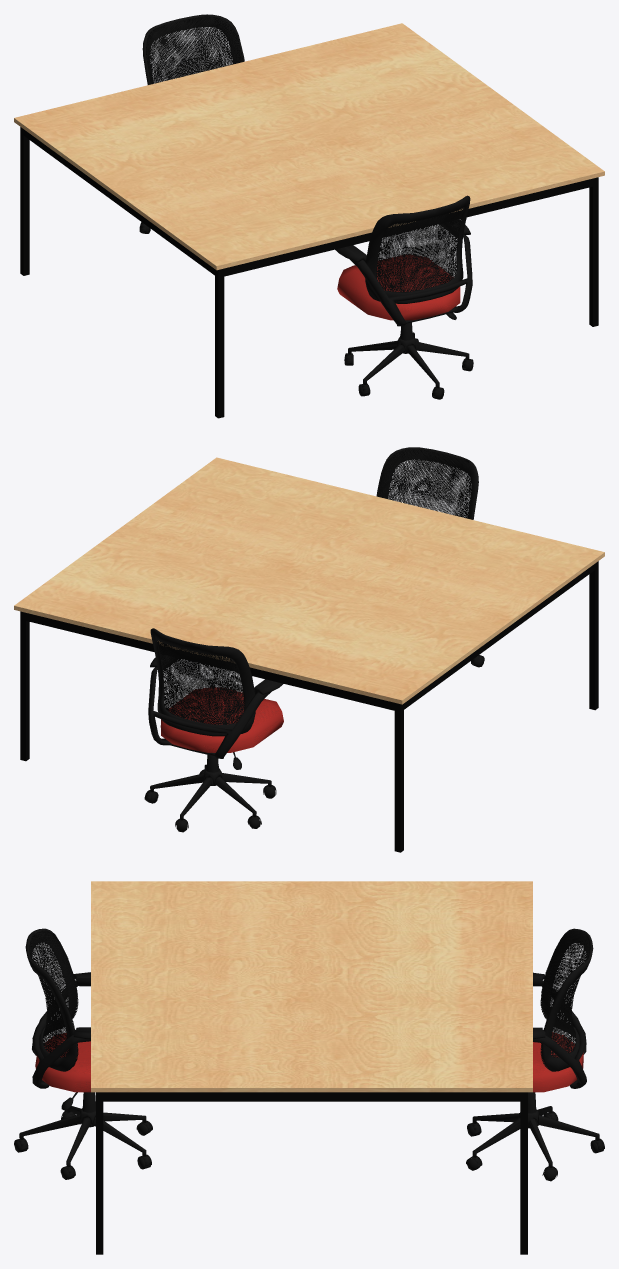
Rendered from udlTableChair.glb.
3 renders of one model, top to bottom at view 1: azimuth 30°, elevation 25°; view 2: azimuth 150°, elevation 25°; view 3: azimuth 270°, elevation 25°, orthographic. The views are drawn at different scales.
Parts seen in each view (by area): view 1: TableGroup, Chair.001, Chair.002; view 2: TableGroup, Chair.002, Chair.001; view 3: TableGroup, Chair.001, Chair.002.
Part boxes in pixels (left/top/right/bottom): TableGroup: left=14, top=23, right=604, bottom=418; Chair.001: left=335, top=195, right=473, bottom=399; Chair.002: left=139, top=14, right=244, bottom=233; TableGroup: left=14, top=457, right=604, bottom=852; Chair.002: left=144, top=628, right=283, bottom=832; Chair.001: left=376, top=447, right=484, bottom=667; TableGroup: left=91, top=881, right=532, bottom=1254; Chair.001: left=14, top=928, right=152, bottom=1179; Chair.002: left=466, top=928, right=604, bottom=1181.
Size of the model in its own units: 1.97 by 0.9095 by 2.38.
5 materials, 3 textured.
